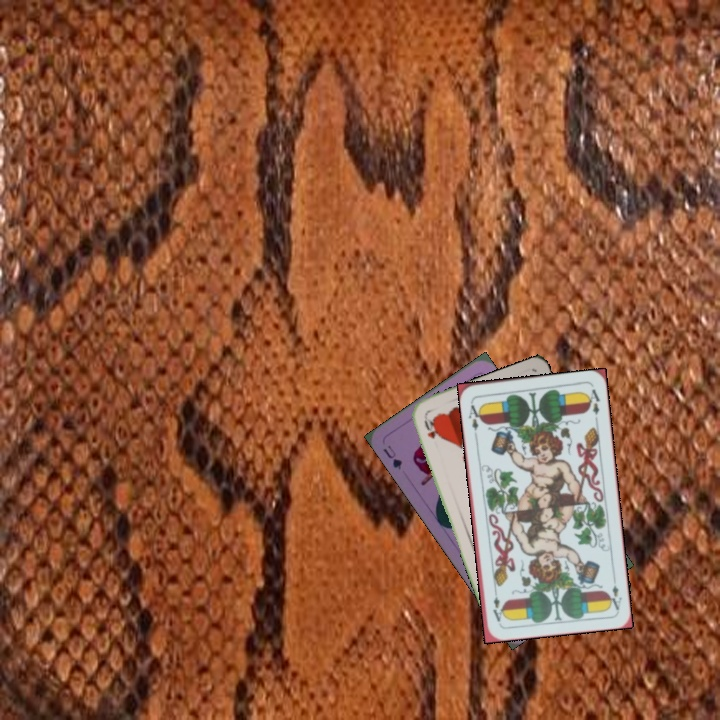EA: (604, 572, 624, 612), (465, 397, 484, 433)
GU: (379, 441, 405, 472)
HO: (420, 416, 441, 441)
